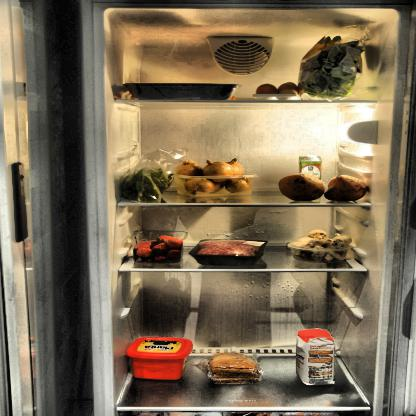butter: (127, 338, 189, 380)
eggs: (254, 81, 301, 99)
green_beans: (119, 164, 173, 204)
ground_beef: (193, 241, 266, 259)
heavy_cream: (296, 155, 323, 188)
mushrooms: (288, 229, 353, 262)
onion: (174, 159, 250, 199)
spinach: (303, 32, 362, 103)
strawberries: (132, 235, 184, 264)
sweet_potato: (276, 174, 370, 200)
